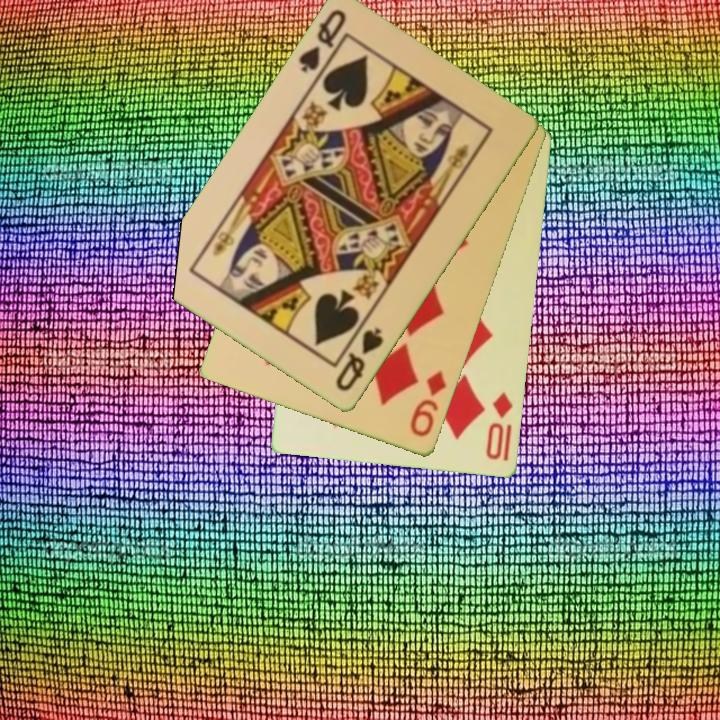10d: (482, 389, 517, 464)
9d: (407, 367, 450, 441)
Qs: (332, 324, 387, 395), (295, 6, 350, 77)
